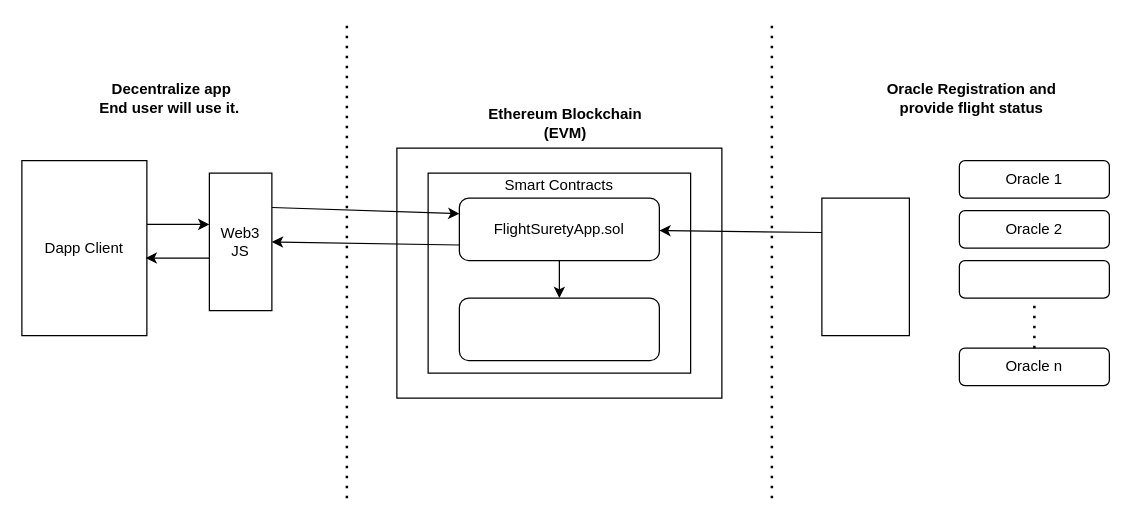
Some shapes in this 1131 by 521 pixel diagram are drawn without their labels. Here are the shapes that lost their labels. From the top down, the centre of each, then its label:
(865,266): NodeJS Server
(1033,278): Oracle 3
(558,329): FlightSuretyData.sol
